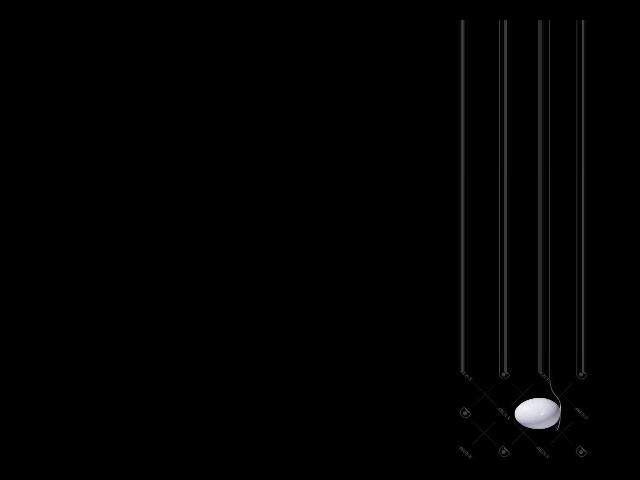egg: (514, 397, 560, 428)
